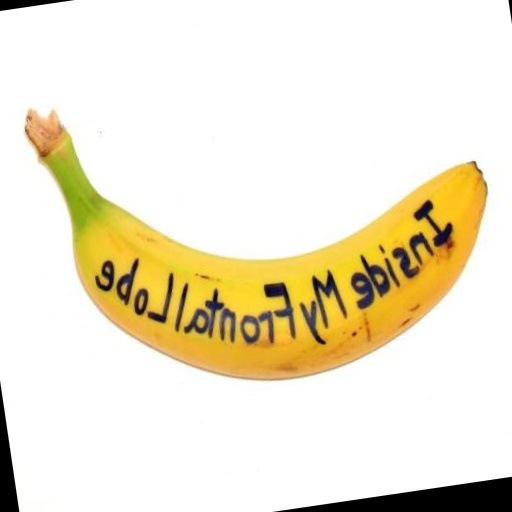fruit: (25, 111, 486, 379)
